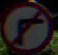Don't turn right: (6, 6, 47, 44)
